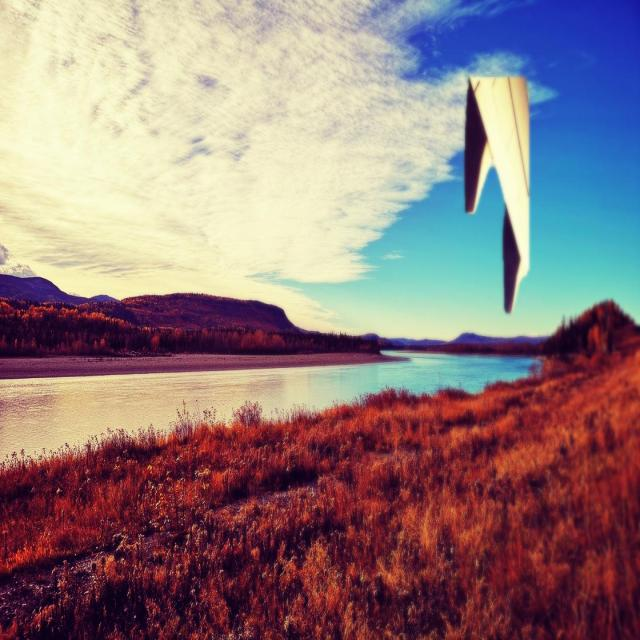airplane: (463, 75, 530, 313)
